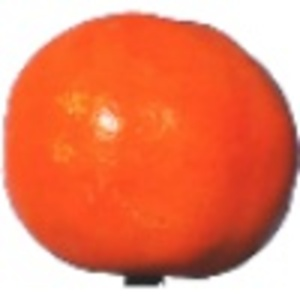tangerina: (1, 8, 300, 285)
